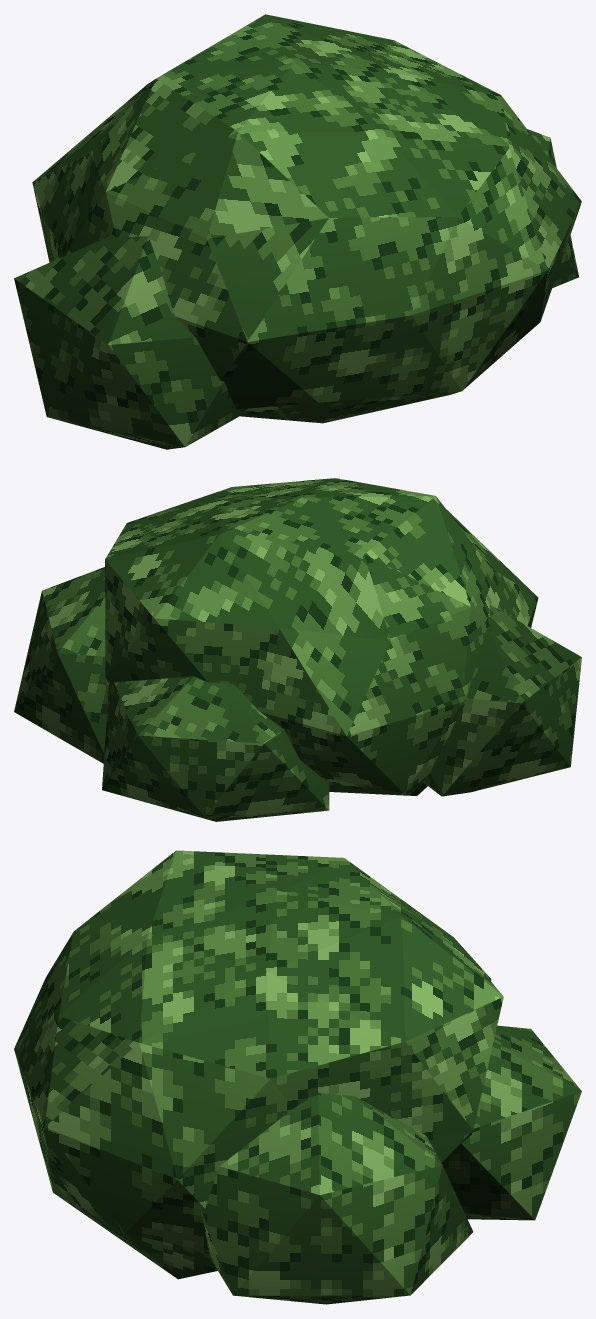
File: bush_a.glb
3 views of the same model, one above another, from view 1: azimuth 30°, elevation 25°; view 2: azimuth 150°, elevation 25°; view 3: azimuth 270°, elevation 25° (orthographic). The views are drawn at different scales.
Parts seen in each view (by area): view 1: bush_a; view 2: bush_a; view 3: bush_a.
Boxes of the visible parts, x1,y1,x2,y2 form: bush_a: [14, 14, 581, 449]; bush_a: [14, 478, 581, 821]; bush_a: [14, 850, 581, 1304].
Bounding box in the file's own units: 1.79 × 0.9998 × 1.55.
1 material, 1 textured.
